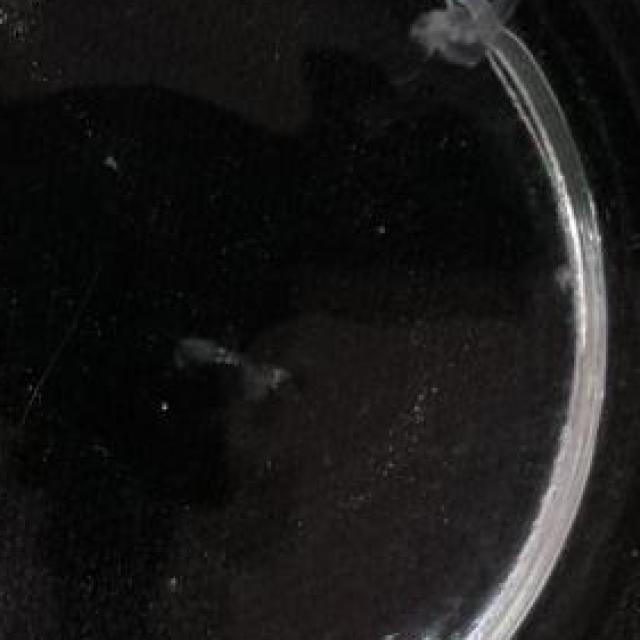Microplastic: (408, 0, 519, 95), (168, 328, 298, 404)
